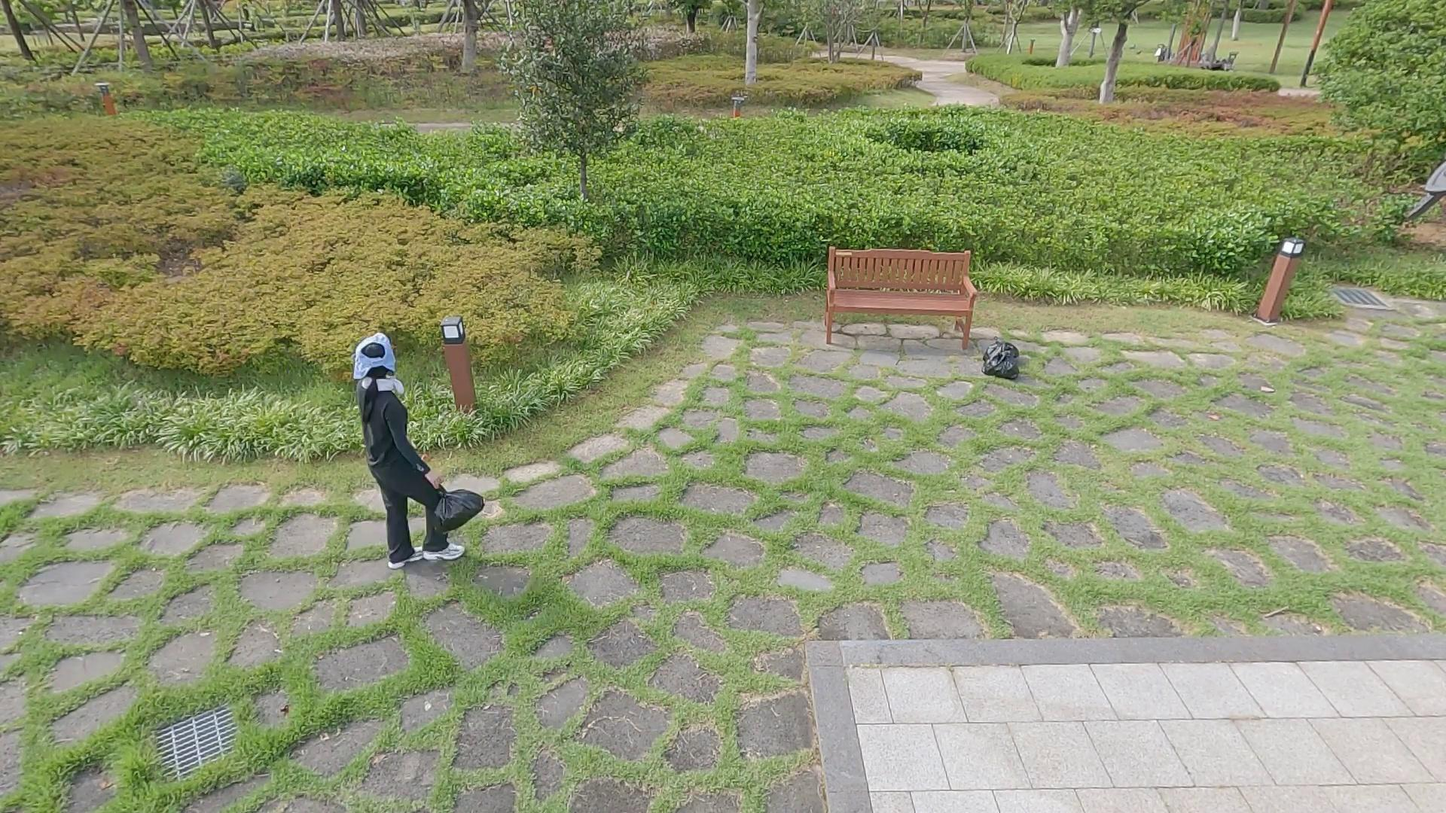person: (350, 331, 471, 572)
trash: (430, 483, 484, 530), (982, 337, 1023, 385)
